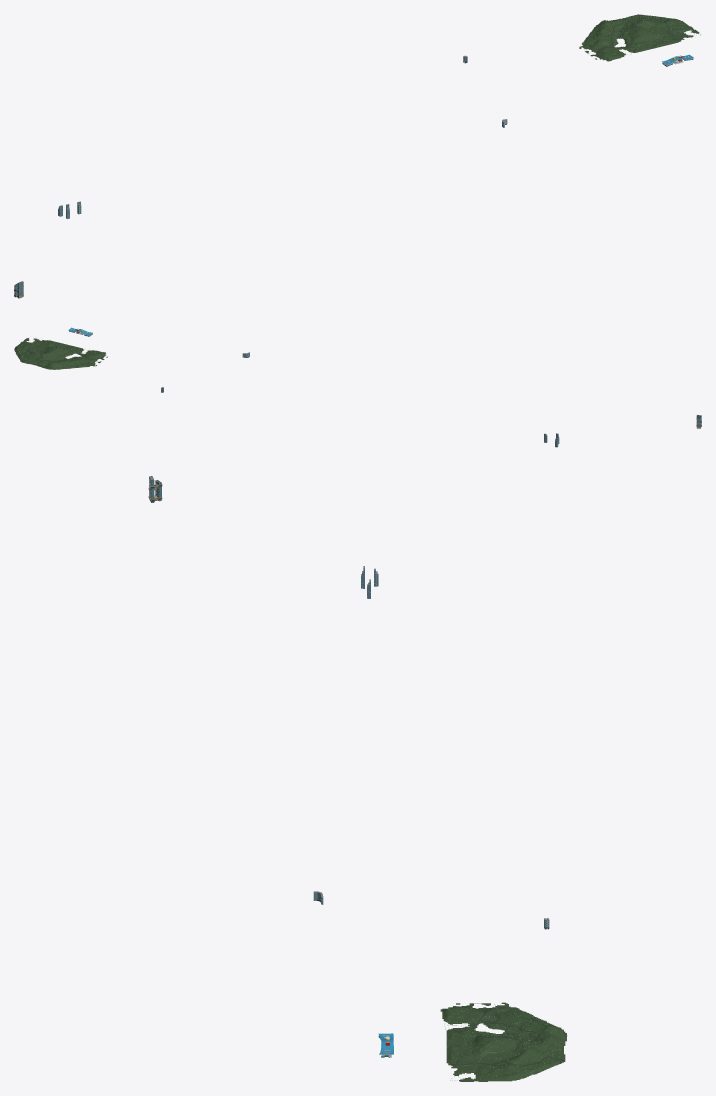
The model's file is landmark-detail.glb.
3 views of the same model, one above another, from view 1: azimuth 30°, elevation 25°; view 2: azimuth 150°, elevation 25°; view 3: azimuth 270°, elevation 25° (orthographic). The views are drawn at different scales.
Parts seen in each view (by area): view 1: detail_lianhua_park; view 2: detail_lianhua_park; view 3: detail_lianhua_park.
Part boxes in pixels (bbox=[...]): detail_lianhua_park: bbox=[579, 14, 699, 61]; detail_lianhua_park: bbox=[14, 338, 107, 369]; detail_lianhua_park: bbox=[440, 1002, 566, 1081].
Size of the model in its own units: 8180 by 149 by 2476.
26 materials, 3 textured.
